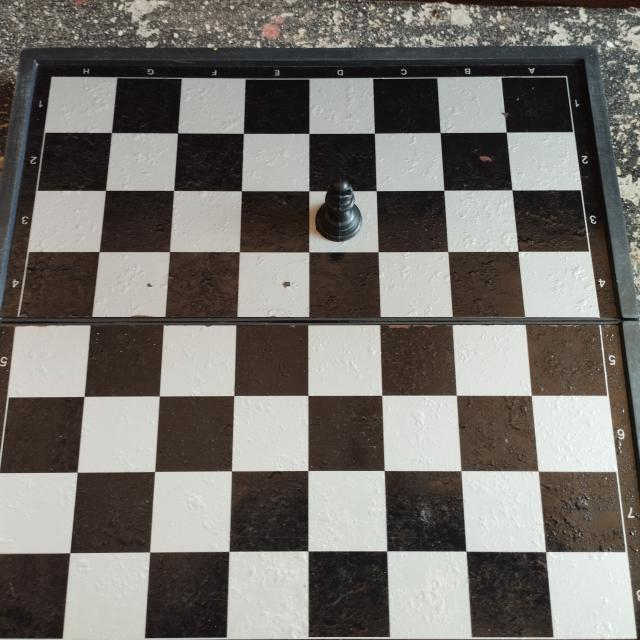Black Bishop: (310, 171, 370, 249)
